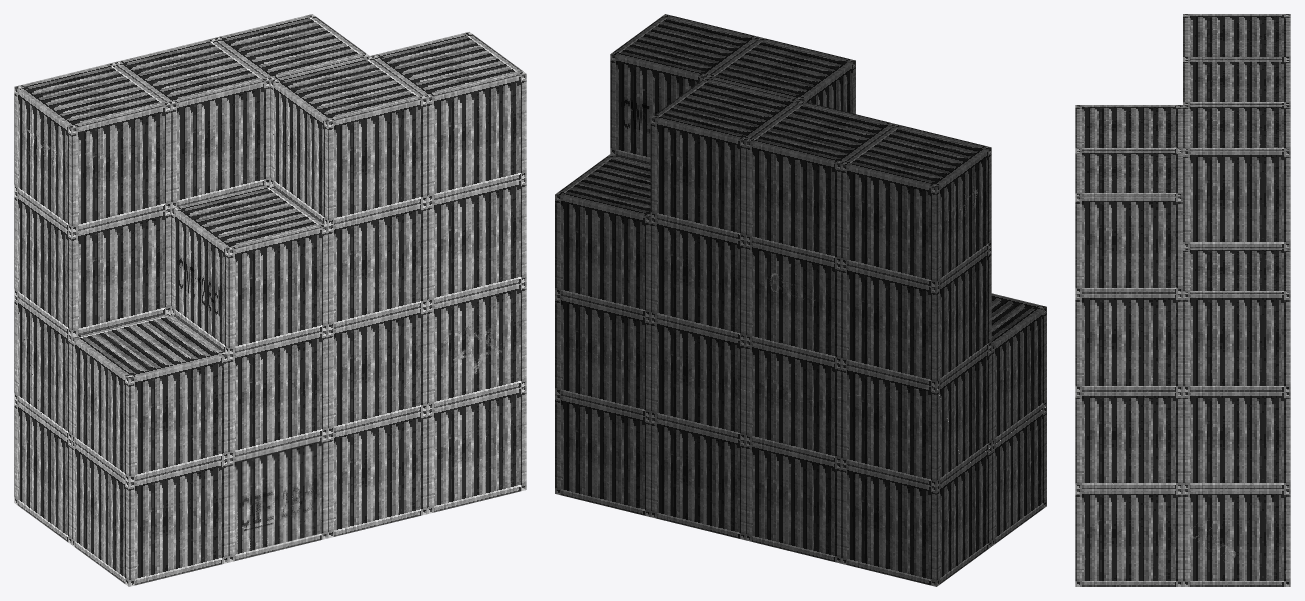
The model's file is Pboxes2x4Z.obj.
3 renders of one model, left to right at view 1: azimuth 30°, elevation 25°; view 2: azimuth 150°, elevation 25°; view 3: azimuth 270°, elevation 25°, orthographic. The views are drawn at different scales.
Size of the model in its own units: 2800 by 2800 by 1400.
7 materials, 7 textured.
